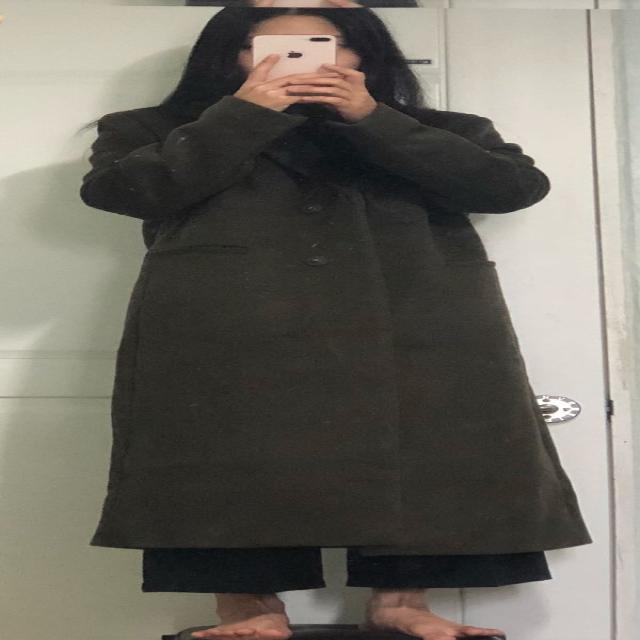coat: (83, 97, 584, 557)
